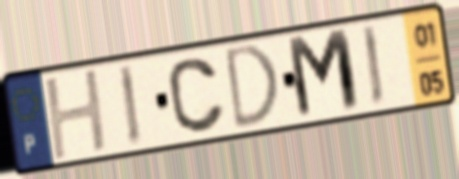C: (165, 55, 228, 137)
D: (224, 41, 282, 135)
H: (41, 65, 112, 165)
I: (358, 21, 388, 111), (115, 61, 145, 151)
M: (283, 25, 365, 124)
